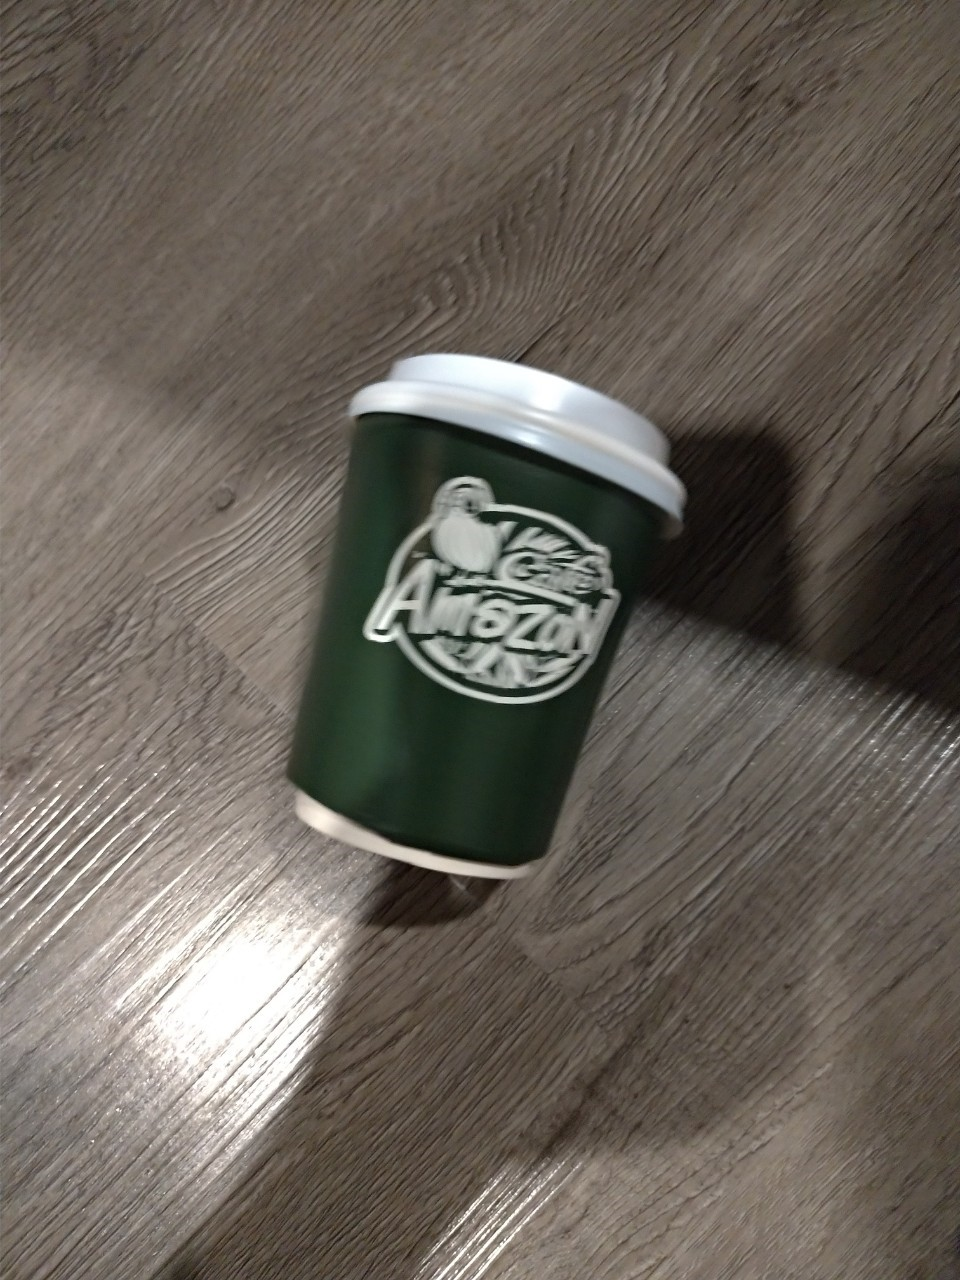PaperCup: (287, 343, 691, 876)
